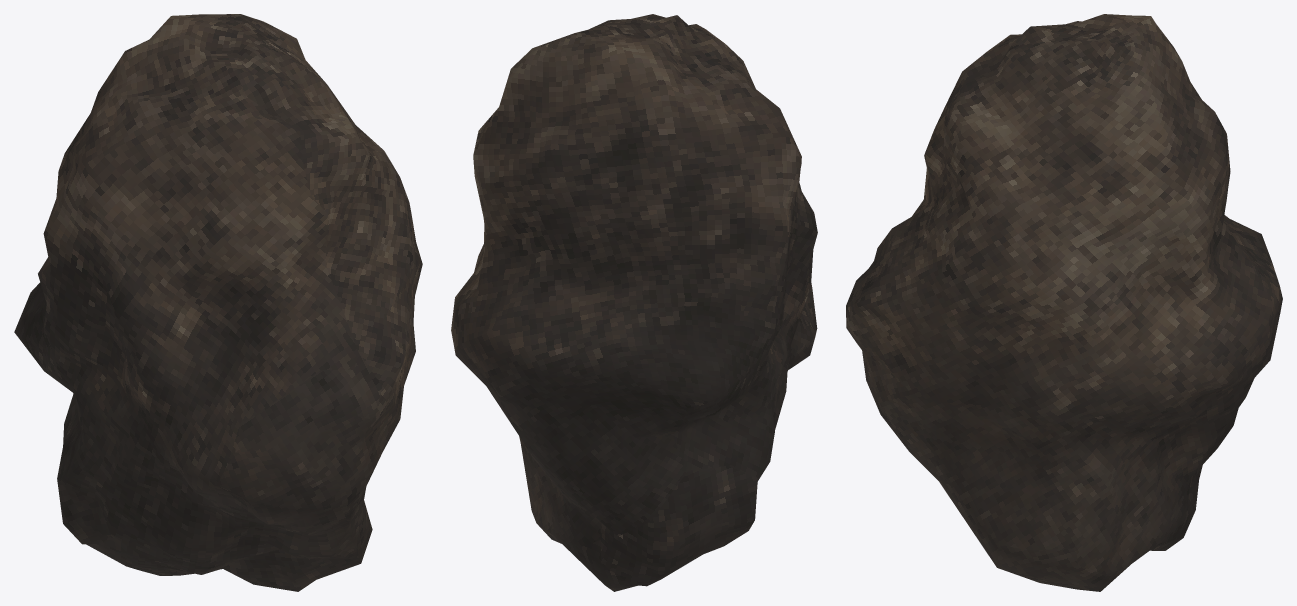
The model's file is SM_RP2_Rock_2m_5.glb.
3 renders of one model, left to right at view 1: azimuth 30°, elevation 25°; view 2: azimuth 150°, elevation 25°; view 3: azimuth 270°, elevation 25°, orthographic. The views are drawn at different scales.
Parts seen in each view (by area): view 1: SM_RP2_Rock_2m_5; view 2: SM_RP2_Rock_2m_5; view 3: SM_RP2_Rock_2m_5.
Part boxes in pixels (left/top/right/bottom): SM_RP2_Rock_2m_5: left=14, top=14, right=422, bottom=591; SM_RP2_Rock_2m_5: left=451, top=14, right=817, bottom=591; SM_RP2_Rock_2m_5: left=846, top=14, right=1282, bottom=591.
Bounding box in the file's own units: 1.95 × 3.15 × 2.33.
1 material, 1 textured.
